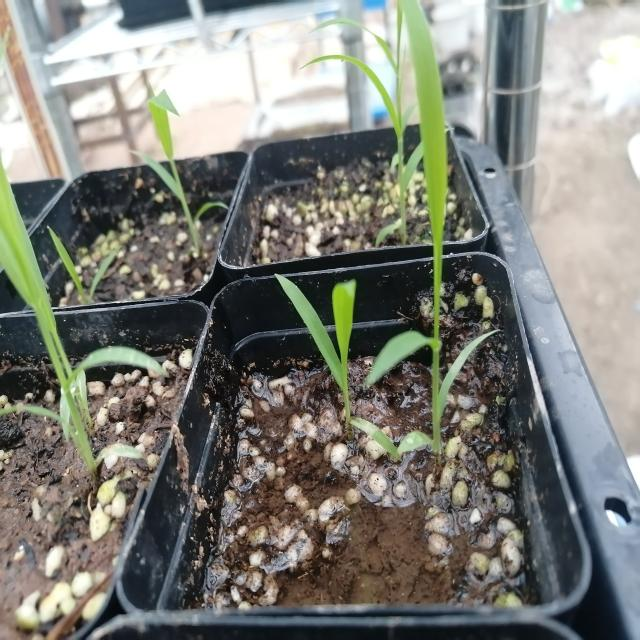crabgrass: (376, 0, 489, 468), (278, 252, 391, 474), (135, 76, 238, 232)
